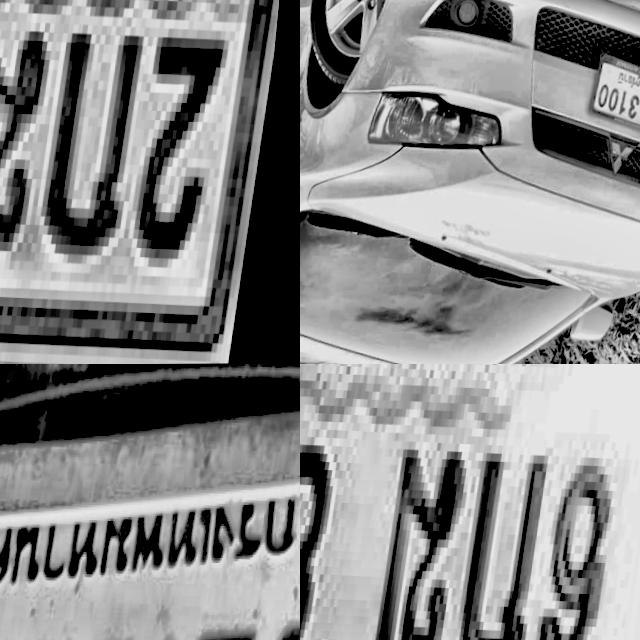license-plate: (0, 0, 300, 364), (300, 364, 640, 640), (0, 364, 300, 640), (586, 53, 640, 139)
